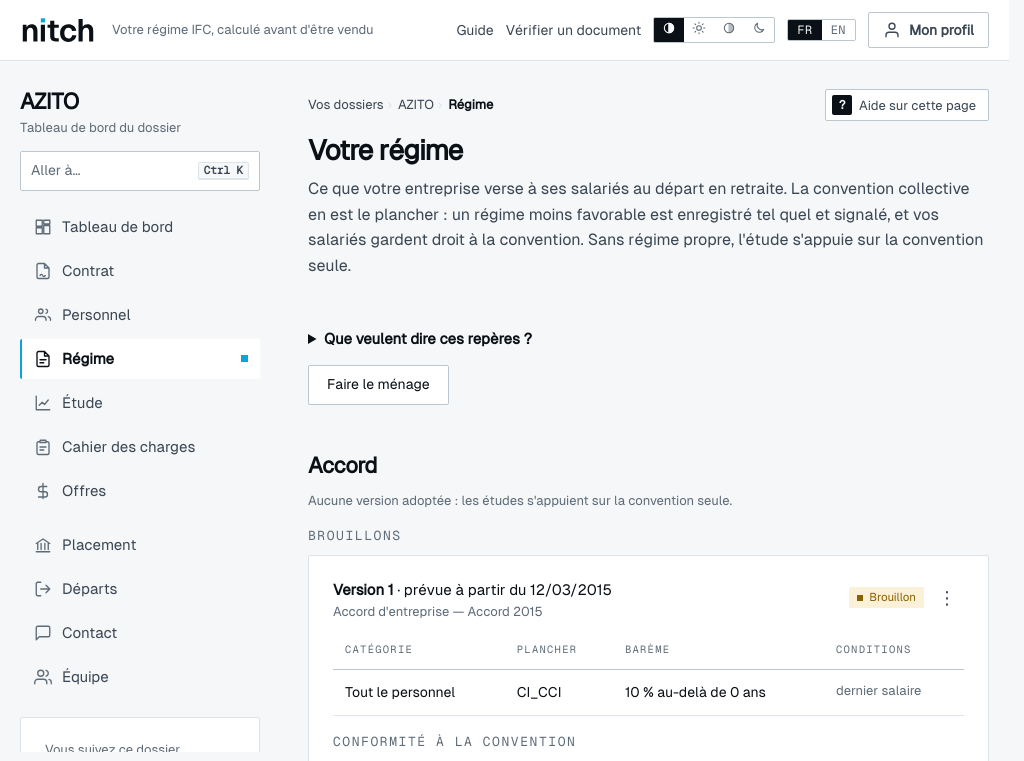
l'adoption d'un régime › le conseiller n'adopte pas : l'action est là, grisée, avec sa raison
Step 1. Click the button named "Actions sur la version 1" → x=947, y=598, box top-left (930, 578), bottom-right (964, 618)
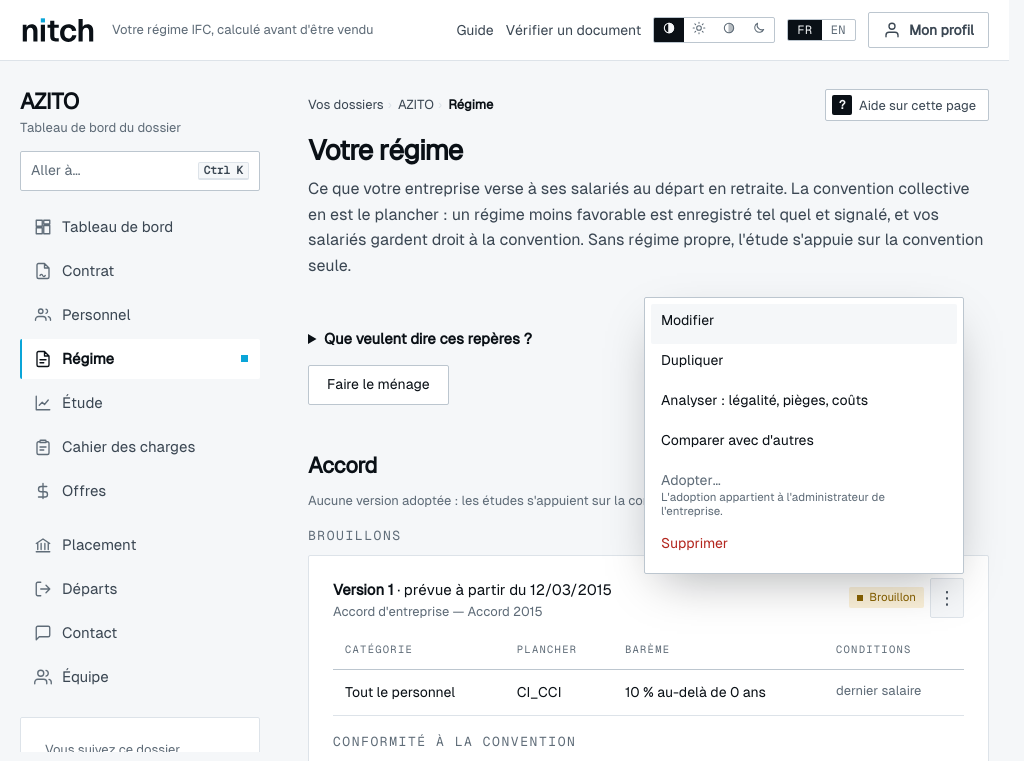
Expected: the menu item "Adopter…" shows "L'adoption appartient à l'administrateur de l'entreprise.", top-left (651, 464), bottom-right (957, 527)
